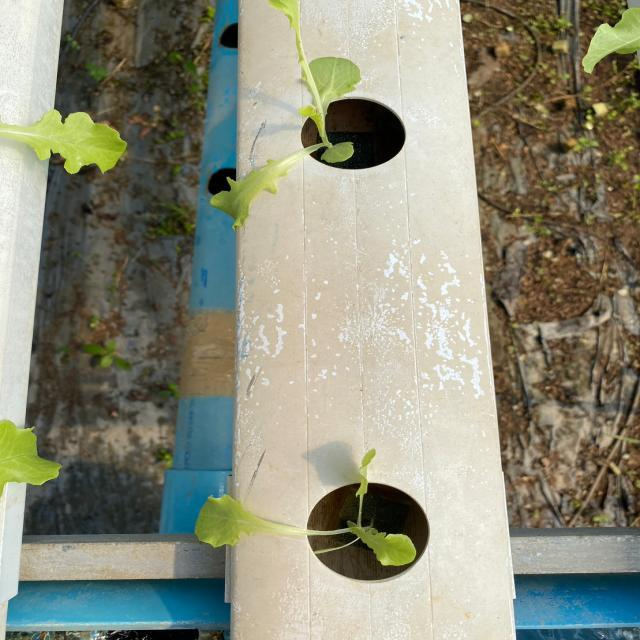Lettuce-Not-Ready-to-Harvest: (210, 0, 361, 228), (195, 449, 418, 567), (0, 110, 126, 173)
